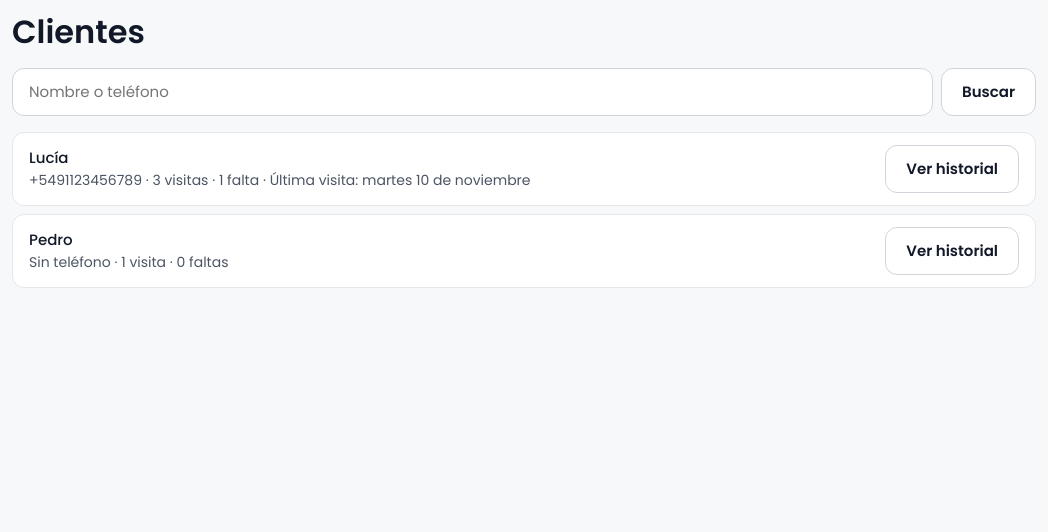
Test case: Clientes del local › HU-34 CA2: con turnos por delante, muestra que hay que cancelarlos antes
This screenshot has width=1048, height=532.
Click the button "Ver historial" in the row of "Lucía": (952, 169) [885,145,1019,193]
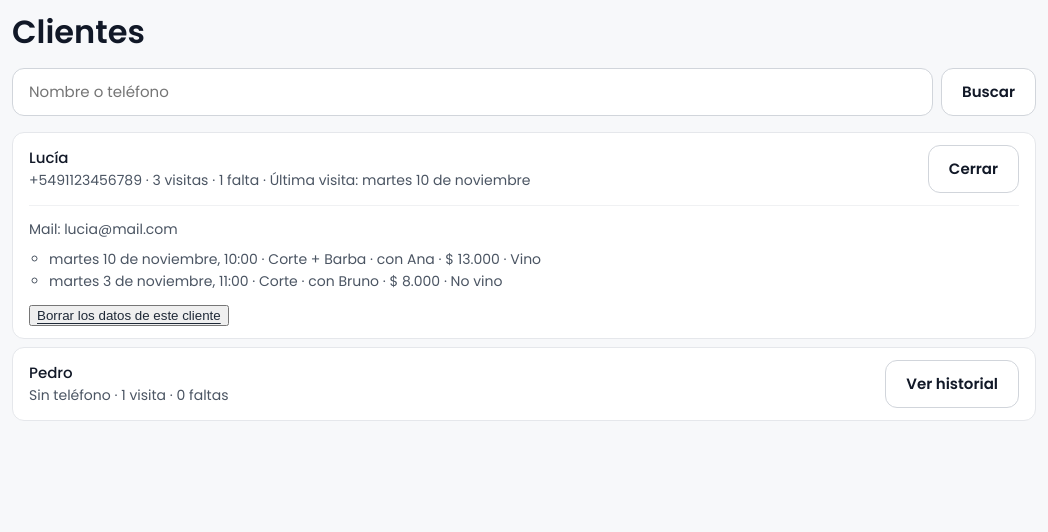
Click the button "Borrar los datos de este cliente": (129, 316) [29,305,229,326]
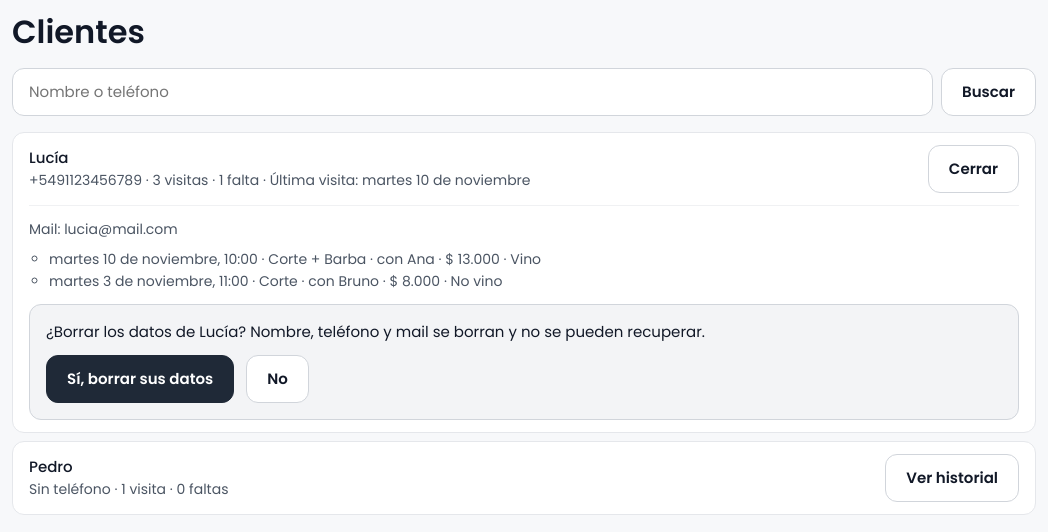
Click the button "Sí, borrar sus datos": (140, 379) [46,355,234,403]
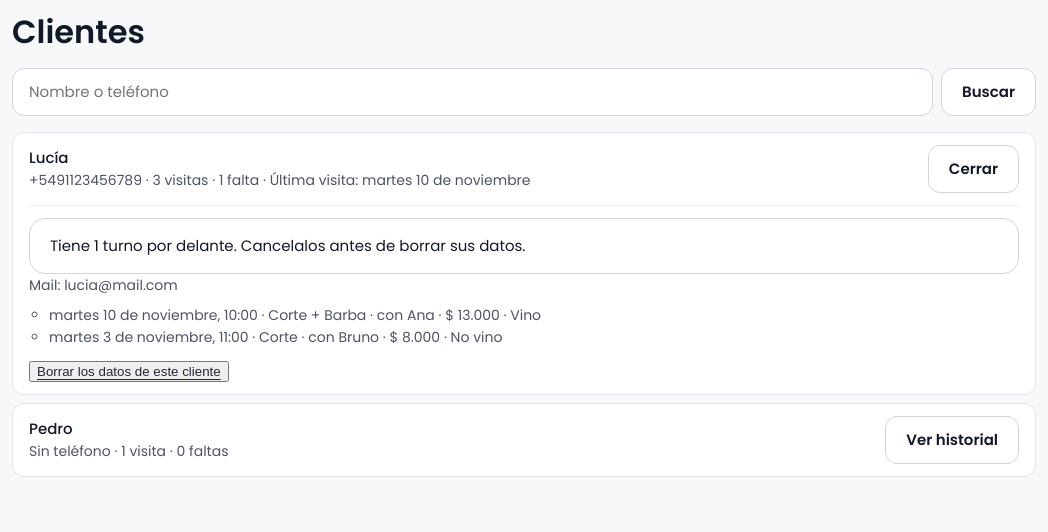
expect the text "Tiene 1 turno por delante. Cancelalos antes de borrar sus datos." is shown: met, box [29,218,1019,274]
